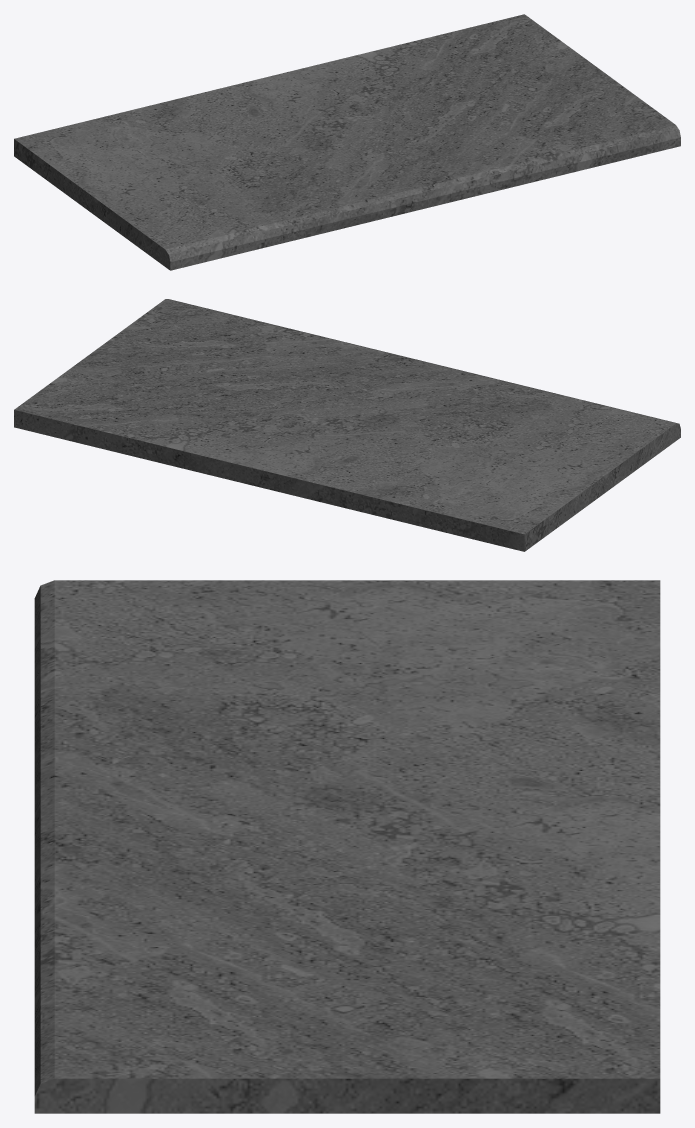
File: CounterTopSimple.fbx
The picture shows the model from 3 angles, top to bottom: view 1: azimuth 30°, elevation 25°; view 2: azimuth 150°, elevation 25°; view 3: azimuth 270°, elevation 25°; orthographic projection. The views are drawn at different scales.
Parts seen in each view (by area): view 1: Plane.002; view 2: Plane.002; view 3: Plane.002.
Part boxes in pixels (x1=…): Plane.002: x1=14, y1=14, x2=680, y2=270; Plane.002: x1=14, y1=299, x2=680, y2=551; Plane.002: x1=34, y1=580, x2=660, y2=1113.
Bounding box in the file's own units: 122 × 4 × 64.7.
1 material, 1 textured.
